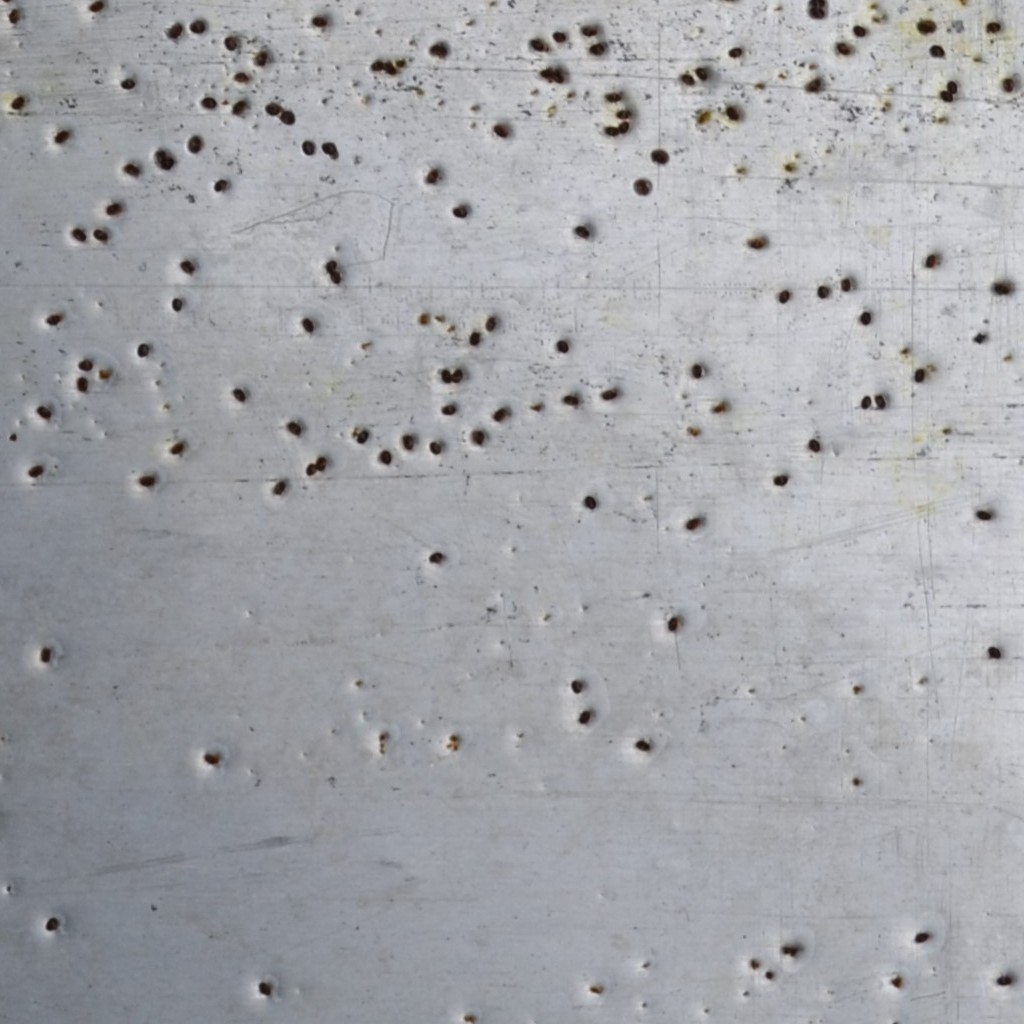varroa: (631, 176, 653, 199), (650, 143, 670, 165), (724, 101, 743, 124), (201, 747, 221, 768), (994, 970, 1014, 990), (634, 735, 652, 757), (186, 133, 203, 156), (975, 505, 994, 525), (154, 148, 173, 167), (990, 280, 1014, 295), (573, 223, 593, 241), (450, 202, 470, 220), (279, 106, 297, 126), (188, 17, 206, 37), (490, 404, 511, 421), (270, 477, 287, 498), (428, 549, 447, 567), (284, 418, 302, 437), (986, 640, 1002, 661), (10, 92, 26, 113), (428, 436, 443, 458), (167, 18, 182, 40), (105, 199, 123, 217), (726, 44, 743, 63), (471, 426, 488, 445), (257, 979, 274, 998), (562, 389, 582, 405), (484, 314, 500, 334), (199, 95, 219, 111), (230, 383, 246, 403), (604, 87, 622, 104), (320, 138, 337, 156), (91, 225, 108, 243), (912, 930, 931, 946), (771, 473, 790, 489), (685, 515, 701, 534), (601, 387, 620, 403), (401, 434, 417, 453), (35, 404, 54, 420), (806, 7, 827, 21), (858, 307, 872, 328), (263, 100, 280, 117), (27, 462, 44, 479), (927, 42, 945, 58), (694, 65, 710, 83), (492, 122, 510, 138), (466, 330, 482, 348), (168, 440, 186, 456), (222, 34, 237, 53), (231, 97, 246, 116), (121, 162, 140, 177), (38, 644, 53, 663), (839, 274, 853, 294), (874, 390, 887, 411), (614, 106, 635, 119), (985, 19, 1002, 35), (852, 23, 869, 39), (550, 27, 566, 44), (530, 37, 547, 53), (582, 493, 599, 509), (52, 128, 69, 144), (354, 428, 370, 445), (807, 436, 822, 454), (555, 338, 570, 356), (254, 48, 269, 66), (70, 223, 85, 241), (211, 177, 229, 192), (914, 366, 928, 385), (777, 288, 791, 307), (570, 676, 584, 695), (589, 42, 609, 55), (233, 68, 249, 84), (138, 471, 154, 487), (581, 25, 598, 40), (1001, 75, 1015, 93), (923, 254, 937, 272), (859, 393, 871, 414), (667, 615, 679, 636), (378, 449, 392, 467), (301, 139, 315, 157), (136, 341, 149, 360), (551, 68, 566, 84), (451, 367, 463, 387), (119, 76, 135, 91), (43, 916, 59, 931), (816, 283, 830, 300), (602, 124, 616, 141), (690, 362, 704, 379), (44, 313, 62, 326), (679, 72, 695, 86), (537, 66, 553, 80), (577, 707, 591, 723), (441, 404, 458, 417), (310, 15, 327, 28), (76, 376, 89, 393), (938, 88, 953, 102), (615, 120, 629, 135), (323, 259, 338, 273), (179, 258, 194, 272), (78, 357, 92, 372), (8, 7, 20, 24), (171, 296, 183, 313), (441, 368, 452, 386), (87, 1, 105, 12), (301, 316, 315, 330), (947, 78, 959, 94), (315, 455, 327, 471), (329, 270, 341, 283), (306, 463, 316, 478)
